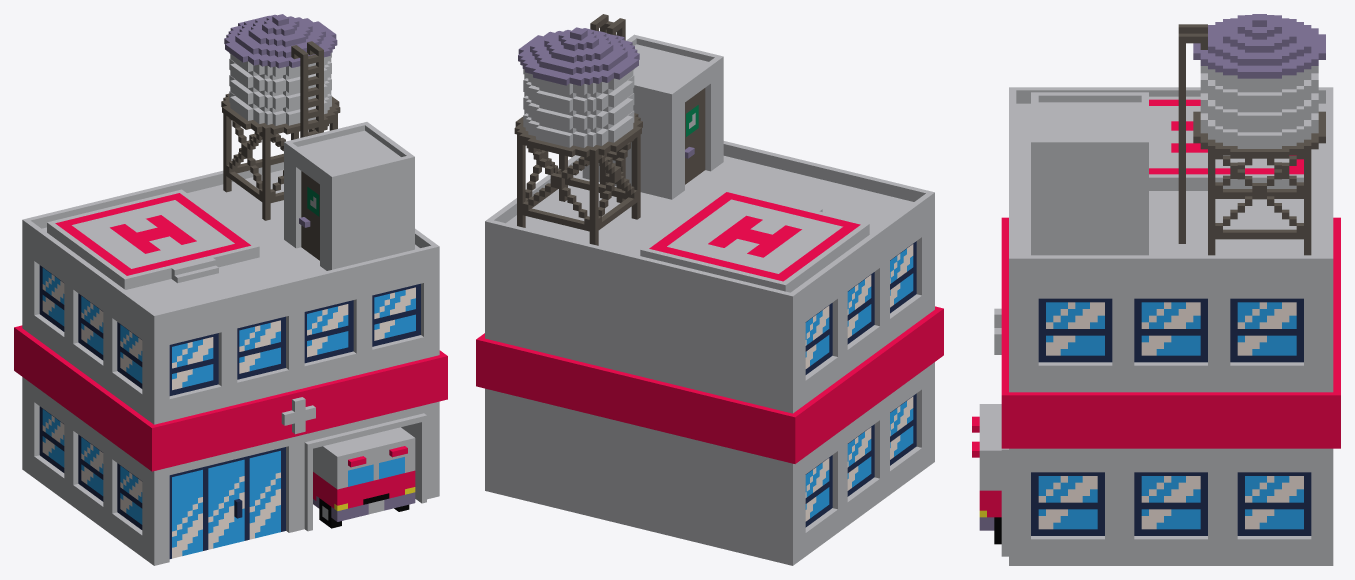
The model's file is hospital_a.obj.
3 views of the same model, side by side, from view 1: azimuth 30°, elevation 25°; view 2: azimuth 150°, elevation 25°; view 3: azimuth 270°, elevation 25° (orthographic). The views are drawn at different scales.
Bounding box in the file's own units: 5.7 × 7.7 × 5.
1 material, 1 textured.
